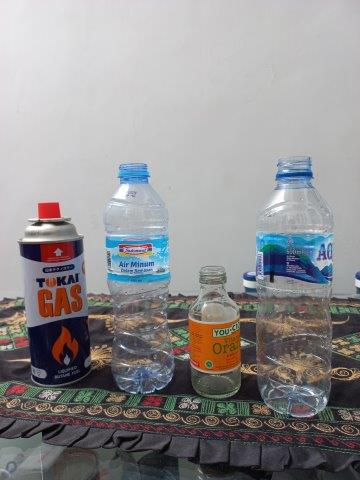botolkaca: (187, 266, 242, 398)
botolplastik: (255, 157, 332, 417), (106, 162, 174, 392)
kaleng: (19, 202, 92, 386)
